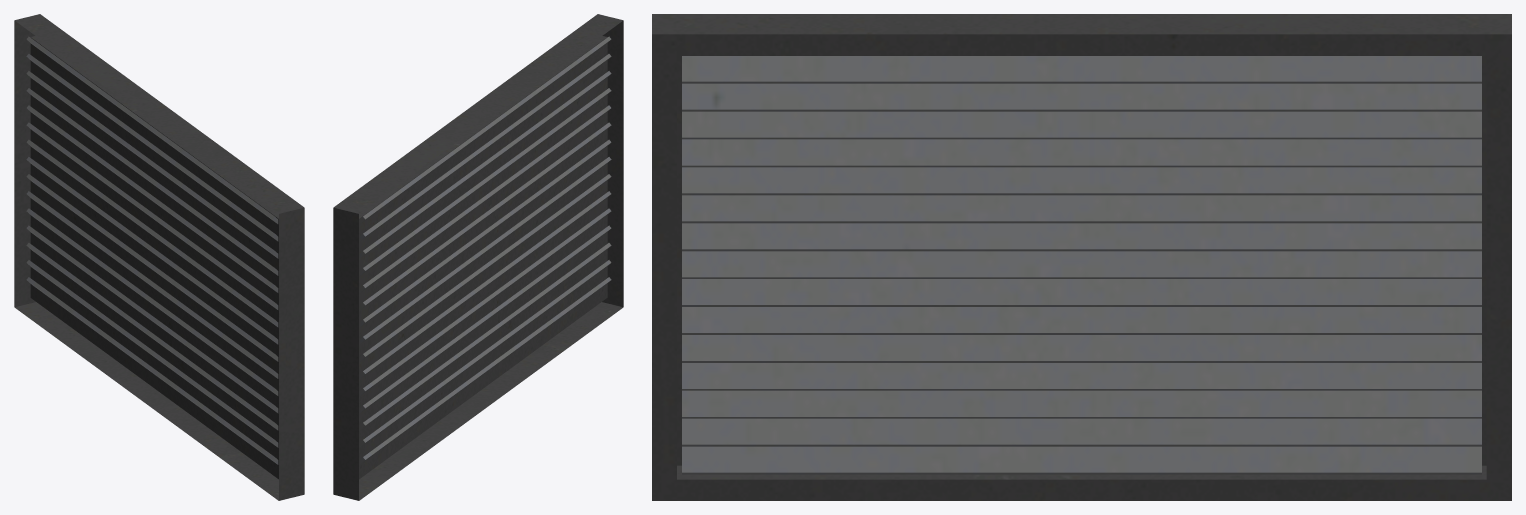
Rendered from SM_Window_a_300.fbx.
3 renders of one model, left to right at view 1: azimuth 30°, elevation 25°; view 2: azimuth 150°, elevation 25°; view 3: azimuth 270°, elevation 25°, orthographic. The views are drawn at different scales.
Visible parts, largest first — view 1: polySurface726, polySurface727; view 2: polySurface726, polySurface727; view 3: polySurface727, polySurface726.
Boxes of the visible parts, left/top/right/bottom form: polySurface726: left=14, top=14, right=304, bottom=500; polySurface727: left=26, top=36, right=278, bottom=464; polySurface726: left=333, top=14, right=623, bottom=500; polySurface727: left=359, top=36, right=611, bottom=464; polySurface727: left=682, top=56, right=1481, bottom=474; polySurface726: left=652, top=14, right=1511, bottom=500.
Bounding box in the file's own units: 0.1606 × 1.71 × 2.85.
